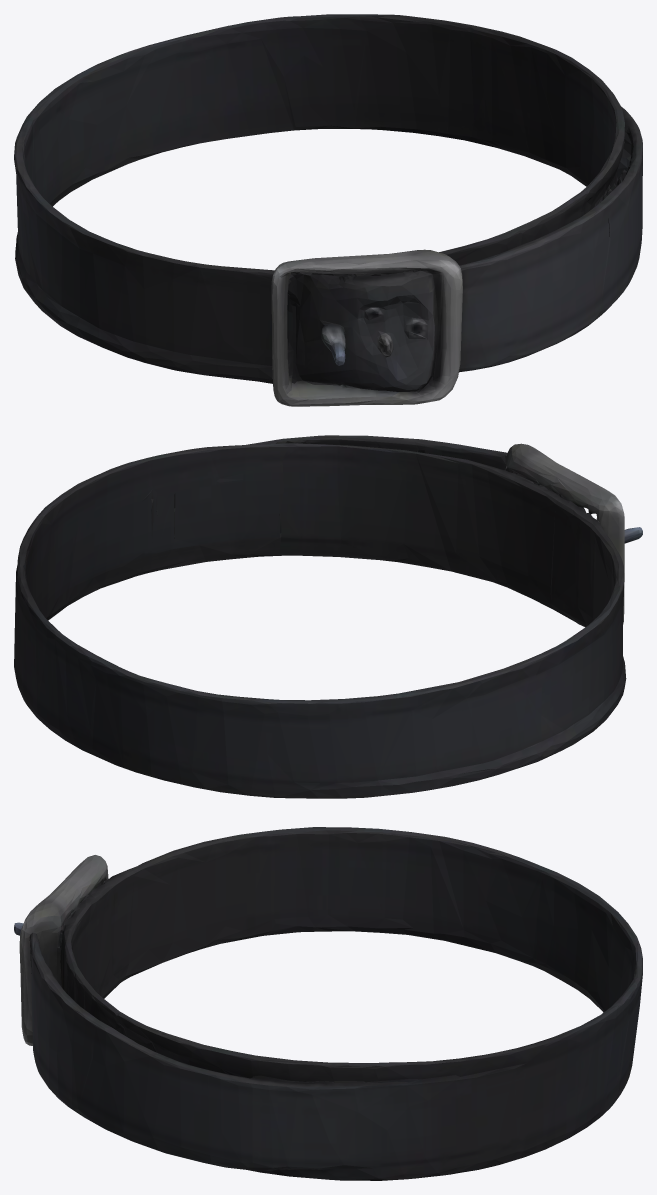
Rendered from cat_collar.glb.
3 renders of one model, top to bottom at view 1: azimuth 30°, elevation 25°; view 2: azimuth 150°, elevation 25°; view 3: azimuth 270°, elevation 25°, orthographic. The views are drawn at different scales.
Visible parts, largest first — view 1: geometry_0; view 2: geometry_0; view 3: geometry_0.
Part boxes in pixels (left/top/right/bottom): geometry_0: left=14, top=14, right=642, bottom=406; geometry_0: left=14, top=435, right=642, bottom=798; geometry_0: left=14, top=827, right=642, bottom=1180.
Size of the model in its own units: 0.964 by 0.2456 by 1.
1 material, 1 textured.
